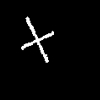single_crochet: (21, 17, 53, 61)
